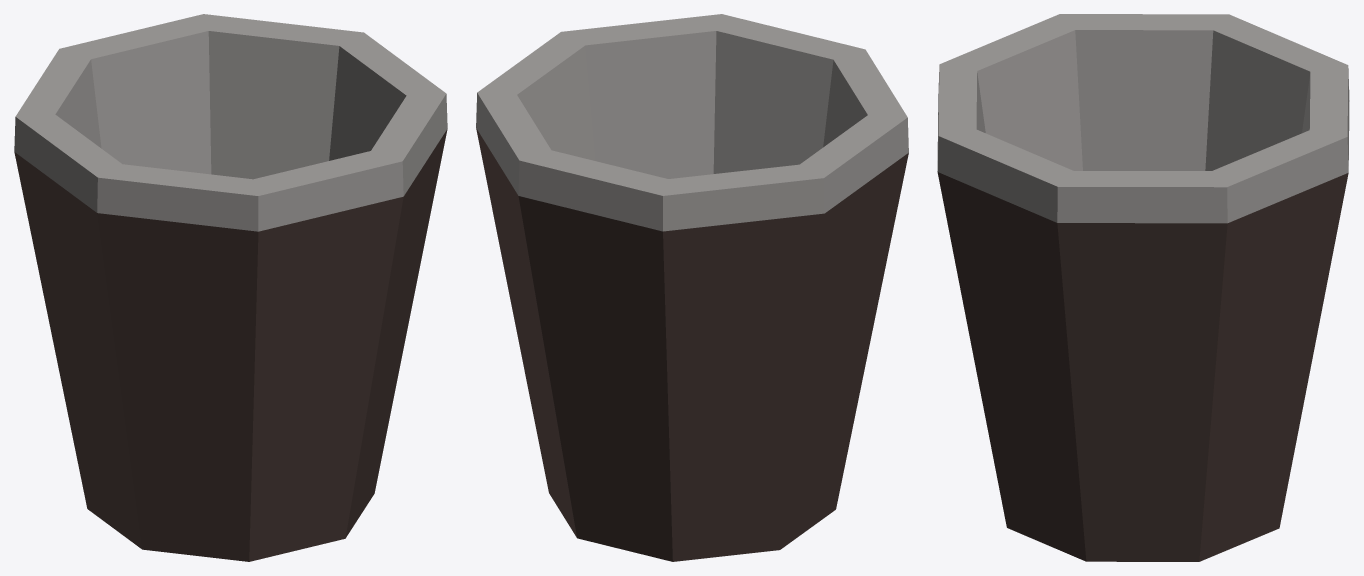
File: SM_Prop_Cafe_CoffeeCup_01.obj
The picture shows the model from 3 angles, left to right: view 1: azimuth 30°, elevation 25°; view 2: azimuth 150°, elevation 25°; view 3: azimuth 270°, elevation 25°; orthographic projection.
Parts seen in each view (by area): view 1: SM_Prop_Cafe_CoffeeCup_01_0; view 2: SM_Prop_Cafe_CoffeeCup_01_0; view 3: SM_Prop_Cafe_CoffeeCup_01_0.
Part boxes in pixels (left/top/right/bottom): SM_Prop_Cafe_CoffeeCup_01_0: left=14, top=14, right=447, bottom=561; SM_Prop_Cafe_CoffeeCup_01_0: left=476, top=14, right=908, bottom=561; SM_Prop_Cafe_CoffeeCup_01_0: left=937, top=14, right=1349, bottom=561.
Size of the model in its own units: 0.0891 by 0.0963 by 0.0891.
Materials: 1 (1 with a texture image).
